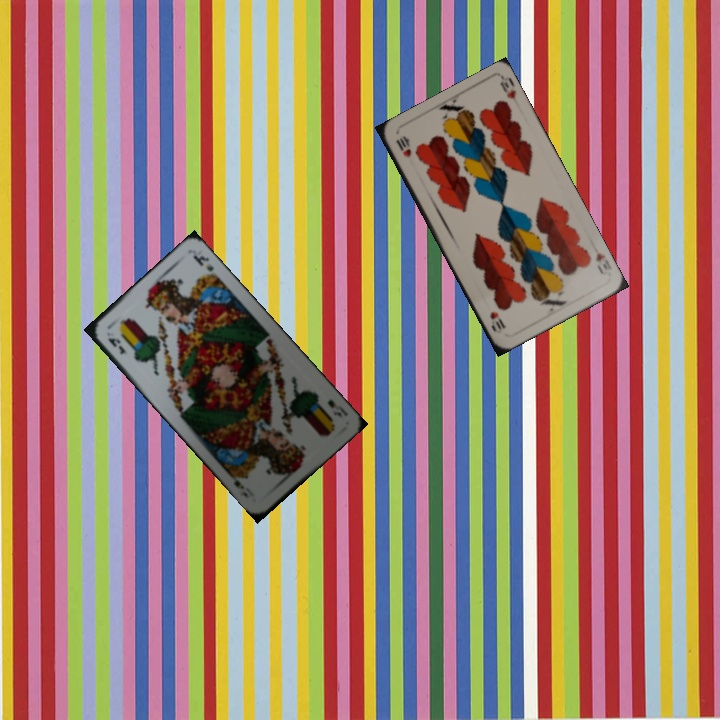EK: (323, 395, 351, 420), (104, 333, 128, 357)
H10: (392, 132, 414, 160), (592, 249, 614, 277)
